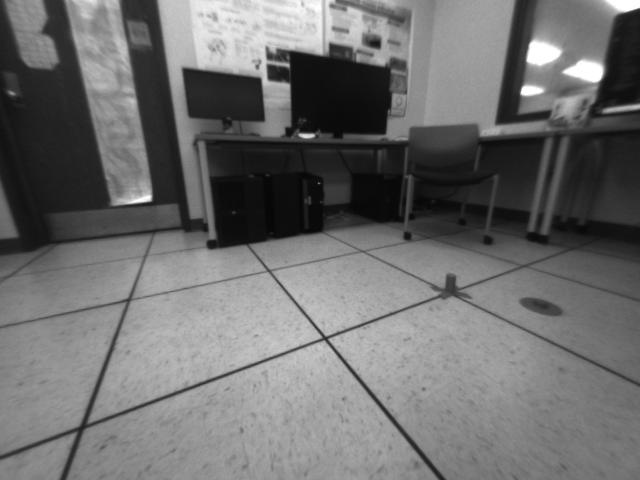X: (429, 272, 473, 300)
